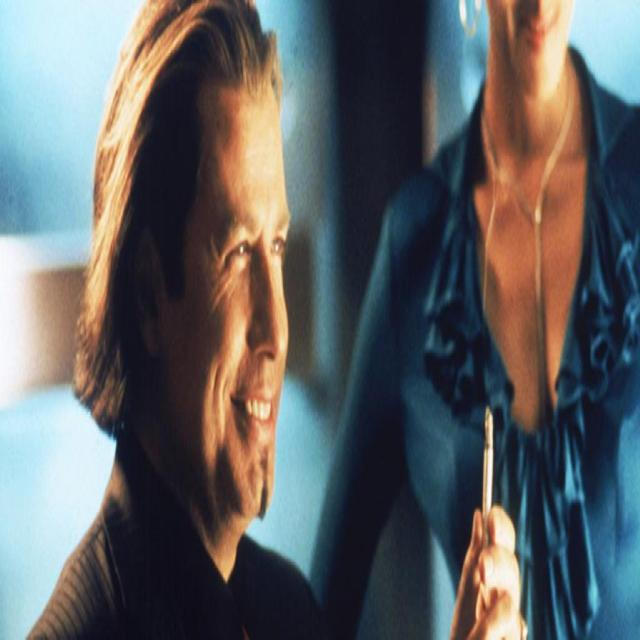smoking: (163, 63, 525, 634)
